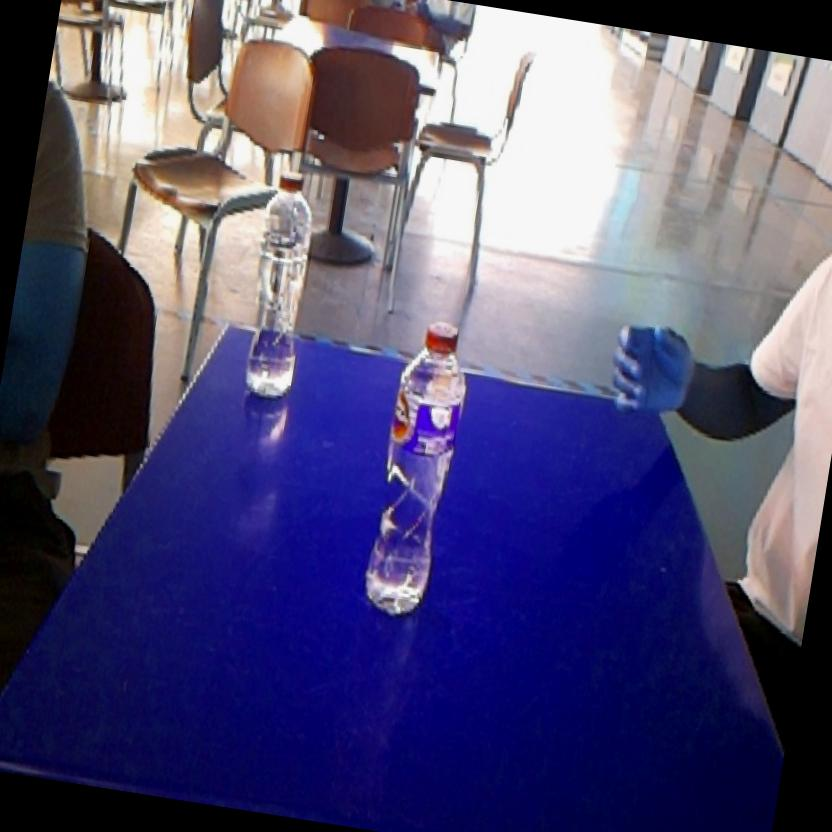good: (348, 307, 484, 636)
no_label: (224, 166, 334, 412)
